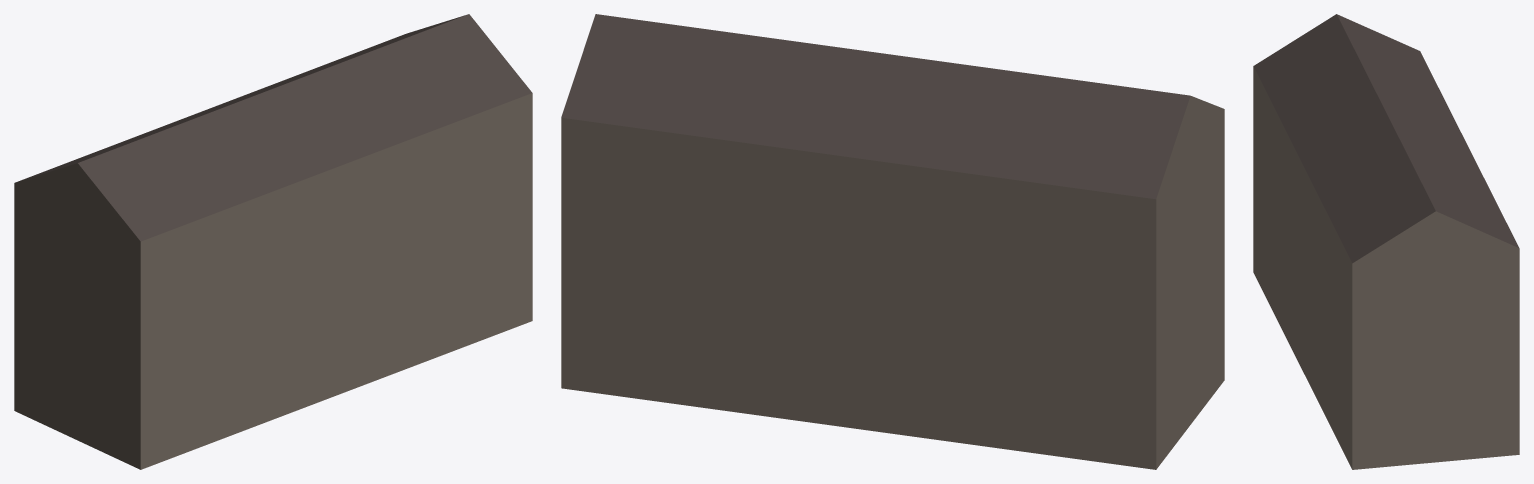
3 views of the same model, side by side, from view 1: azimuth 30°, elevation 25°; view 2: azimuth 150°, elevation 25°; view 3: azimuth 270°, elevation 25° (orthographic). The views are drawn at different scales.
Parts seen in each view (by area): view 1: HP-w1376988856; view 2: HP-w1376988856; view 3: HP-w1376988856.
Boxes of the visible parts, x1,y1,x2,y2 form: HP-w1376988856: (14,14,532,469); HP-w1376988856: (561,14,1224,469); HP-w1376988856: (1253,14,1519,469).
Size of the model in its own units: 13.24 by 7.3 by 7.01.
